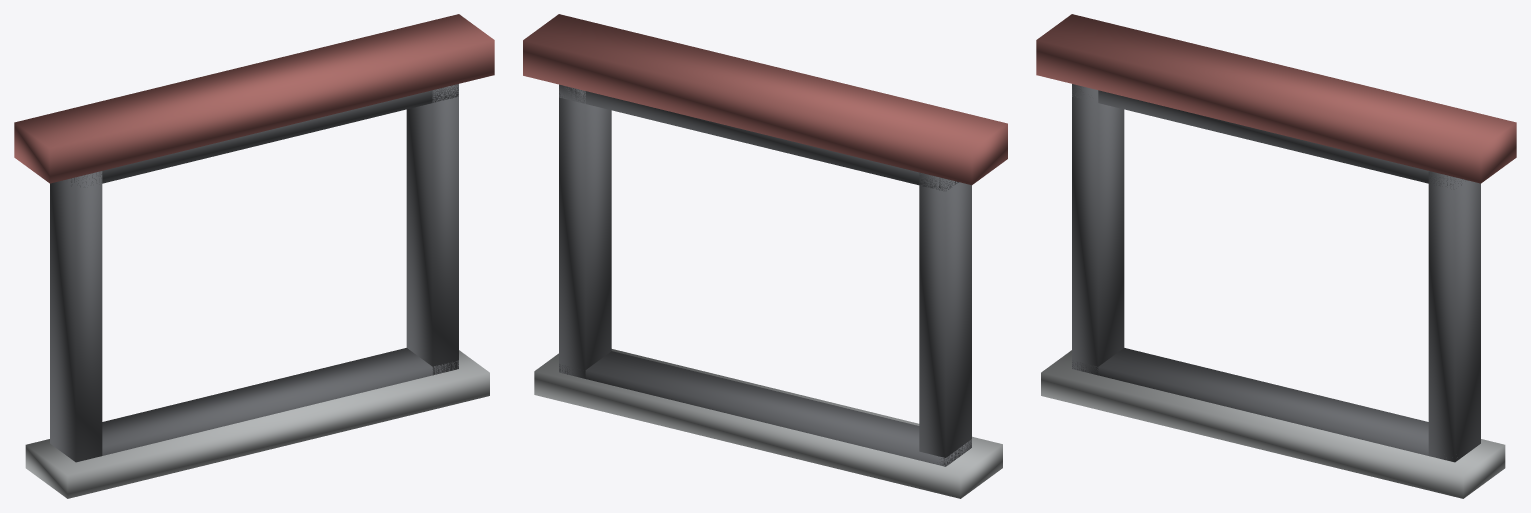
Rendered from egress_window_brick_w118_h90_s55_d16.glb.
The picture shows the model from 3 angles, left to right: view 1: azimuth 30°, elevation 25°; view 2: azimuth 150°, elevation 25°; view 3: azimuth 330°, elevation 25°; orthographic projection.
Parts seen in each view (by area): view 1: world; view 2: world; view 3: world.
Part boxes in pixels (left/top/right/bottom): world: left=14, top=14, right=494, bottom=498; world: left=523, top=14, right=1007, bottom=498; world: left=1036, top=14, right=1516, bottom=498.
Size of the model in its own units: 1.59 by 1.19 by 0.26.
